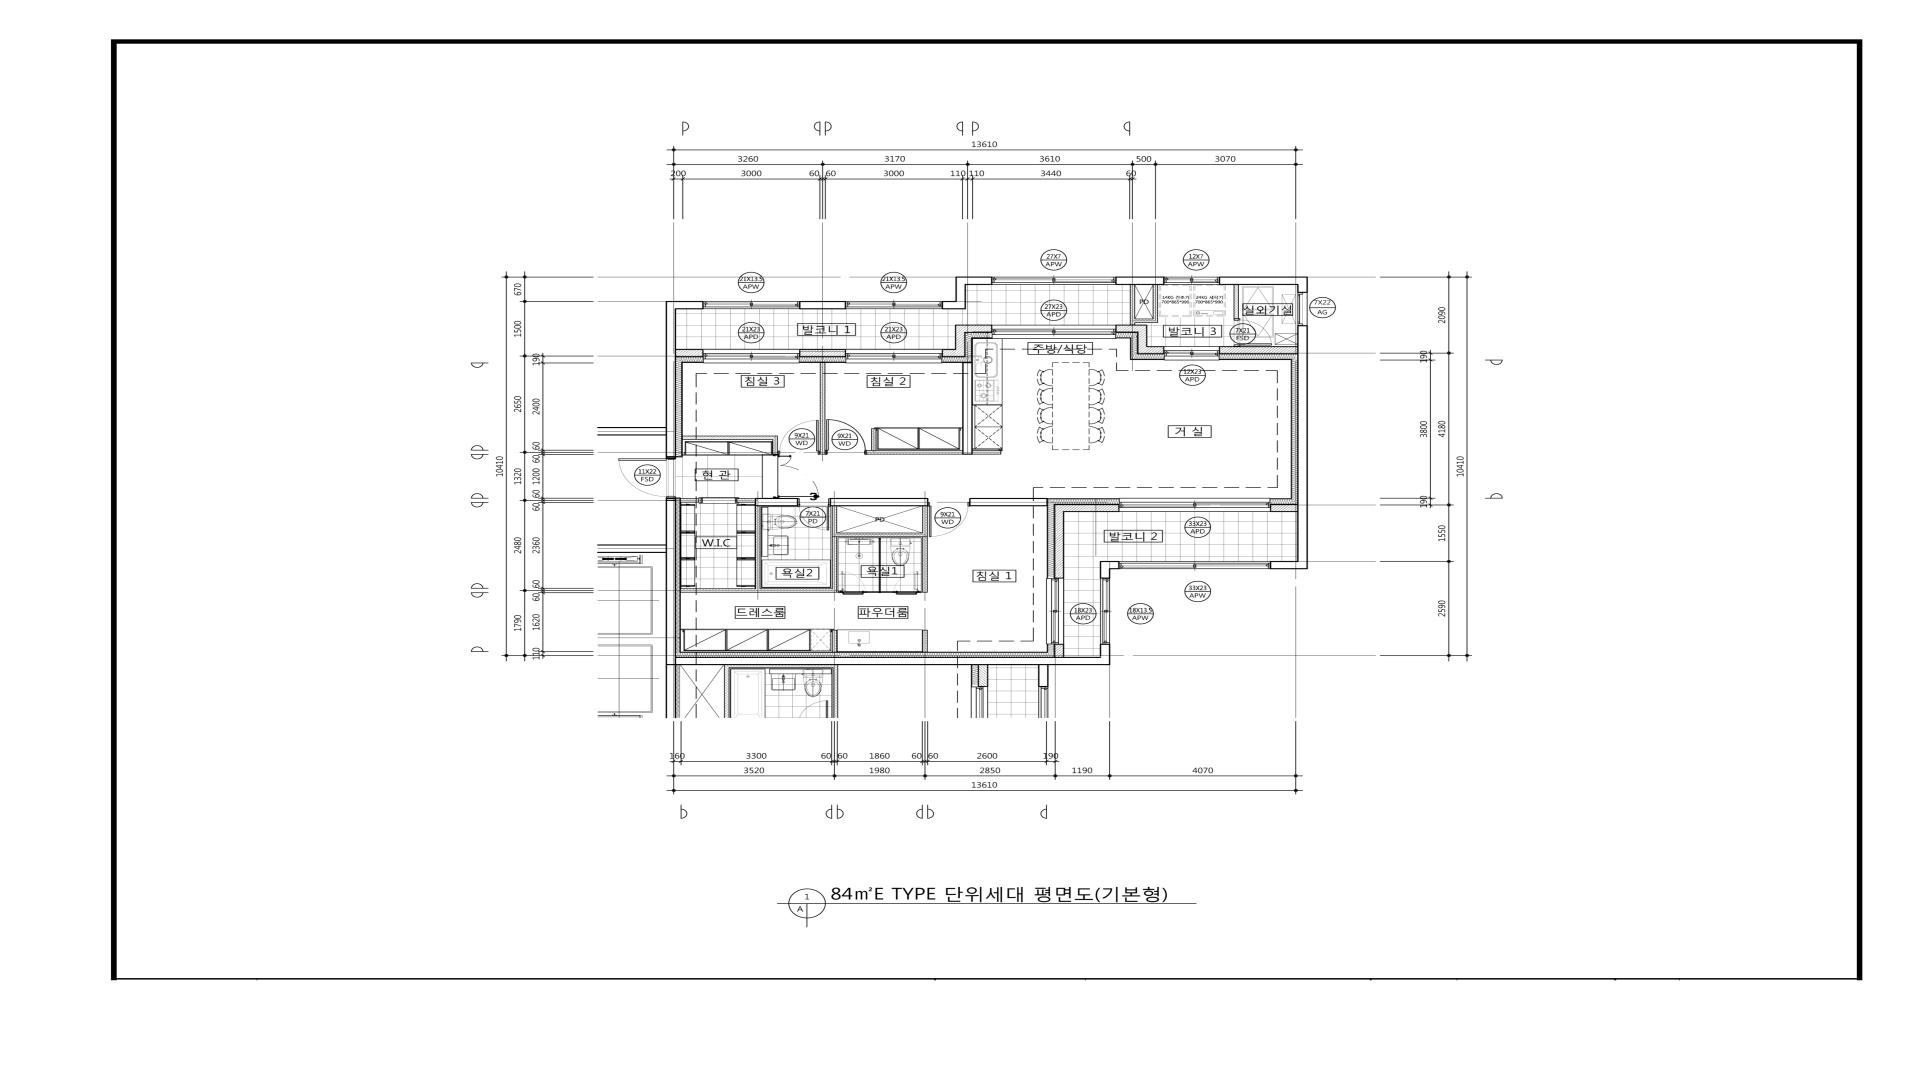door: (618, 458, 676, 497), (773, 455, 819, 498), (778, 419, 820, 455), (825, 419, 866, 455), (928, 502, 969, 537), (1234, 318, 1273, 345), (798, 498, 829, 530), (837, 571, 866, 595), (893, 571, 922, 595), (699, 497, 737, 504)
wall: (676, 657, 1100, 665), (1298, 326, 1308, 570), (666, 497, 676, 719), (666, 301, 676, 458), (963, 361, 973, 455), (1054, 504, 1064, 579), (829, 498, 928, 506), (1220, 345, 1298, 355), (1220, 277, 1308, 285), (969, 498, 1048, 506), (680, 588, 837, 592), (922, 506, 928, 592), (597, 545, 666, 553), (597, 427, 666, 435), (754, 506, 761, 588), (866, 450, 963, 455), (682, 435, 778, 440), (820, 363, 825, 455), (1064, 504, 1120, 512), (832, 506, 837, 588), (799, 301, 845, 310), (1116, 277, 1164, 285), (799, 349, 845, 357), (1100, 560, 1120, 579), (754, 498, 798, 506), (837, 533, 922, 537), (955, 324, 965, 349), (1270, 560, 1298, 570), (1116, 324, 1147, 332), (956, 277, 967, 301), (676, 301, 703, 310), (1137, 332, 1147, 355), (942, 301, 967, 310), (1270, 504, 1298, 512), (676, 349, 703, 357), (965, 324, 992, 332), (1130, 285, 1135, 324), (1100, 645, 1110, 665), (967, 277, 992, 285), (942, 349, 965, 357), (1153, 285, 1158, 319), (1234, 285, 1240, 318), (1147, 345, 1164, 355), (973, 450, 1001, 455), (922, 630, 928, 651), (1054, 644, 1064, 657), (878, 538, 881, 591), (872, 429, 877, 450), (832, 630, 837, 651), (1135, 319, 1158, 323), (1298, 285, 1308, 293), (773, 440, 778, 455), (680, 498, 699, 502), (866, 591, 893, 593), (737, 498, 754, 502)
window: (1120, 498, 1270, 512), (992, 324, 1116, 339), (703, 349, 799, 364), (845, 349, 942, 364), (1046, 579, 1064, 644), (1120, 562, 1270, 568), (992, 277, 1116, 285), (845, 301, 942, 309), (703, 301, 799, 309), (1164, 347, 1220, 360), (1100, 579, 1110, 645), (1164, 277, 1220, 285), (1298, 293, 1308, 326)
